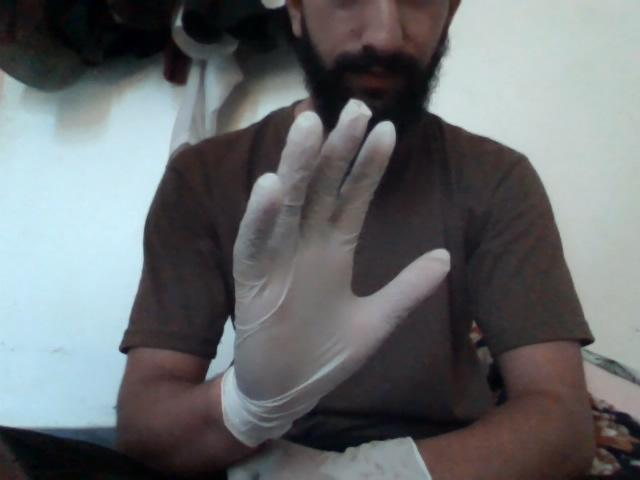gloves: (204, 67, 432, 450), (166, 427, 477, 480)
